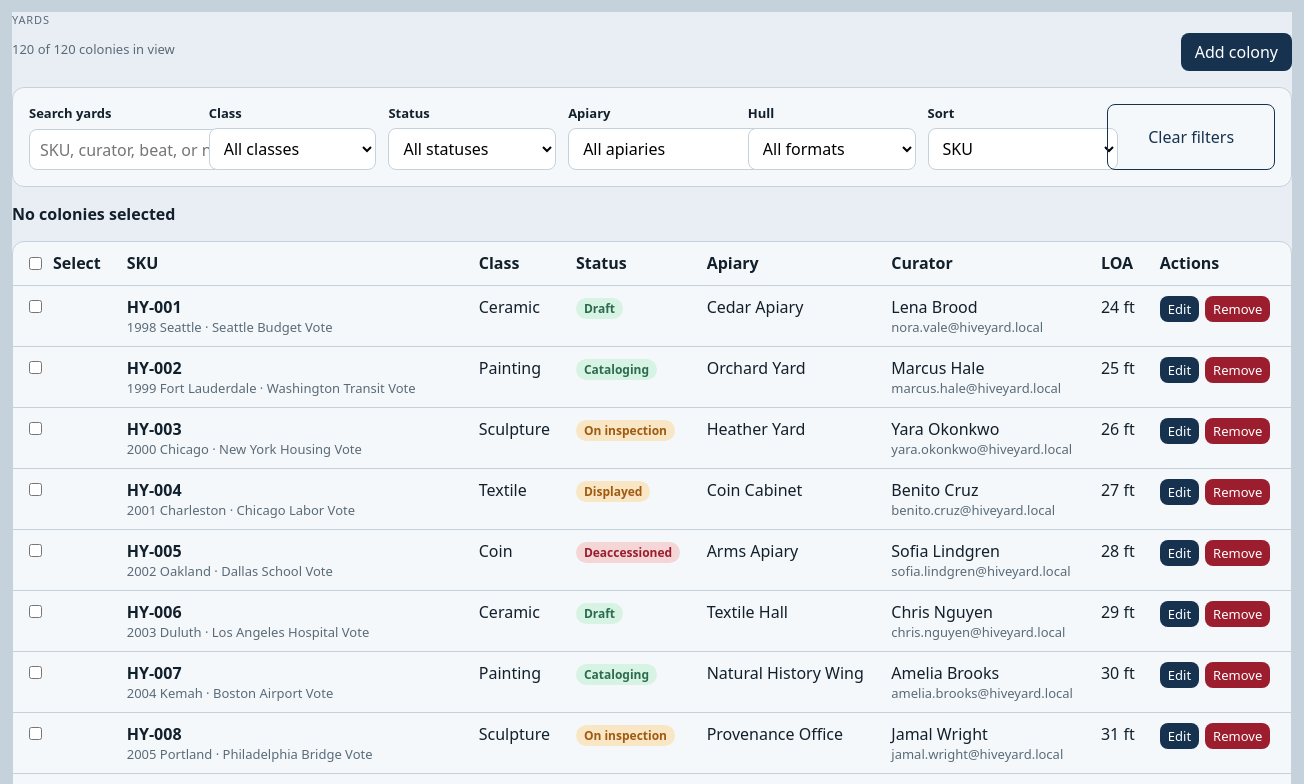
Test case: ColoniesPage › lets a clerk select a visible row
This screenshot has width=1304, height=784.
Click the checkbox named "Select HY-001" at [36, 306], box [29,300,42,312]
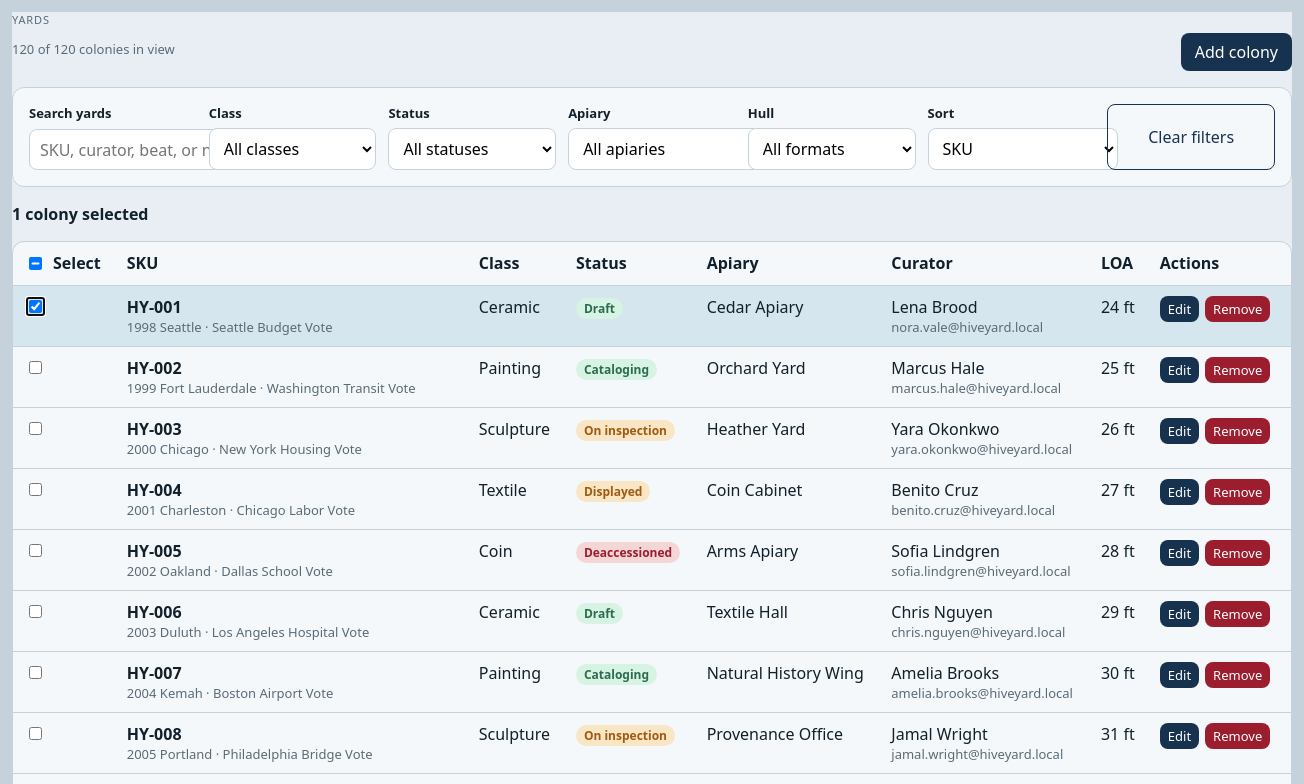
Now the message reads "1 colony selected", box [12,203,148,225]
